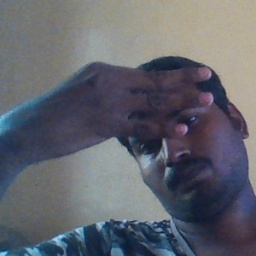K: (24, 58, 216, 147)
